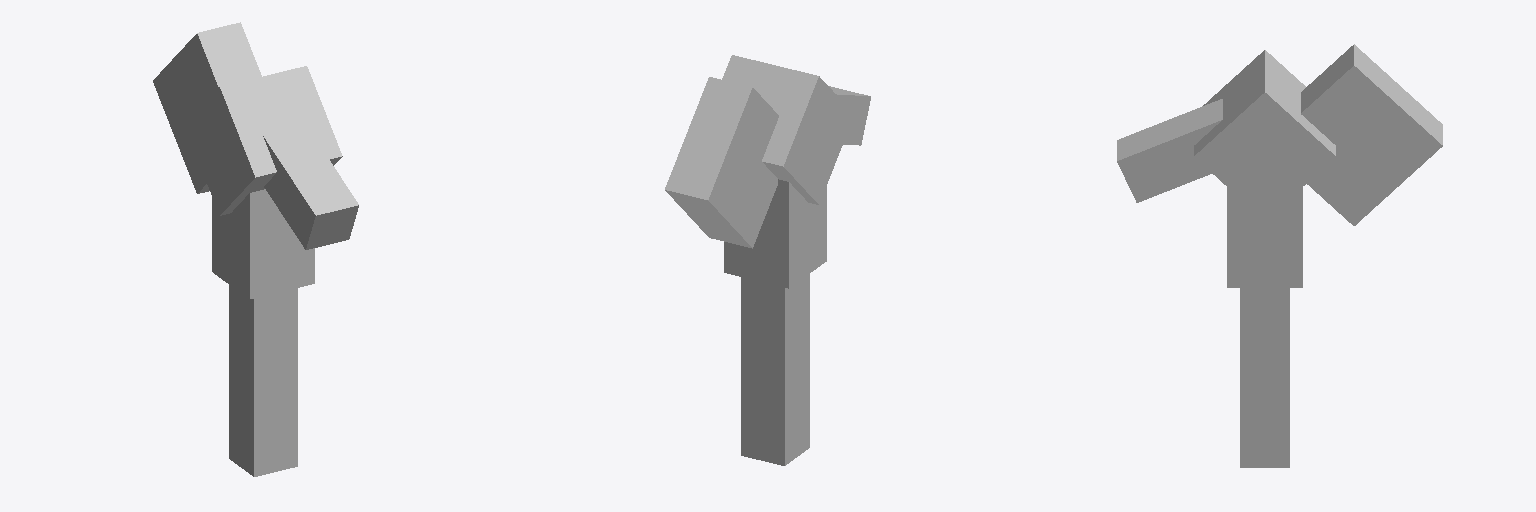
The model's file is shard_axe_arcane.obj.
3 renders of one model, left to right at view 1: azimuth 30°, elevation 25°; view 2: azimuth 150°, elevation 25°; view 3: azimuth 270°, elevation 25°, orthographic.
Visible parts, largest first — view 1: shape8; view 2: shape8; view 3: shape8.
Part boxes in pixels (bbox=[...]): shape8: bbox=[153, 22, 358, 476]; shape8: bbox=[665, 55, 870, 465]; shape8: bbox=[1117, 44, 1442, 467].
Size of the model in its own units: 0.25 by 1.1 by 0.8097.